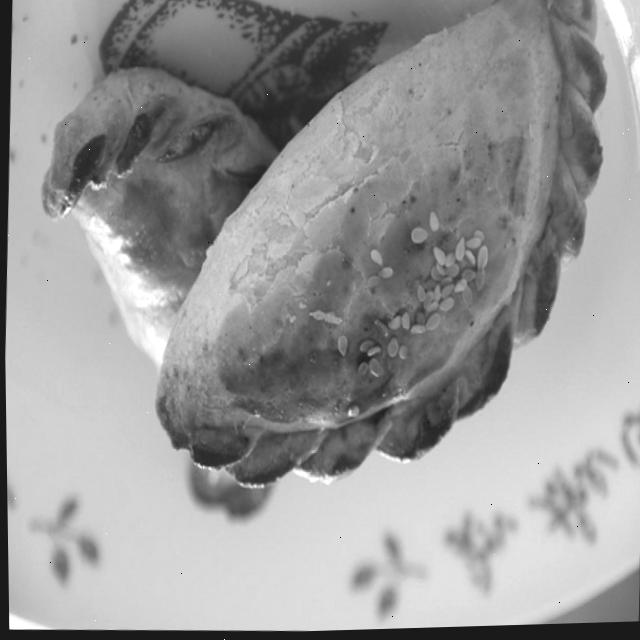炸货点心: (14, 0, 619, 567)
